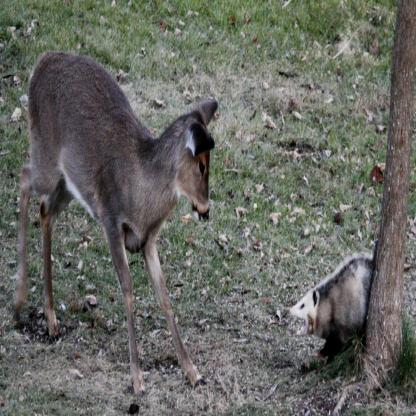Deer: (12, 49, 218, 396)
